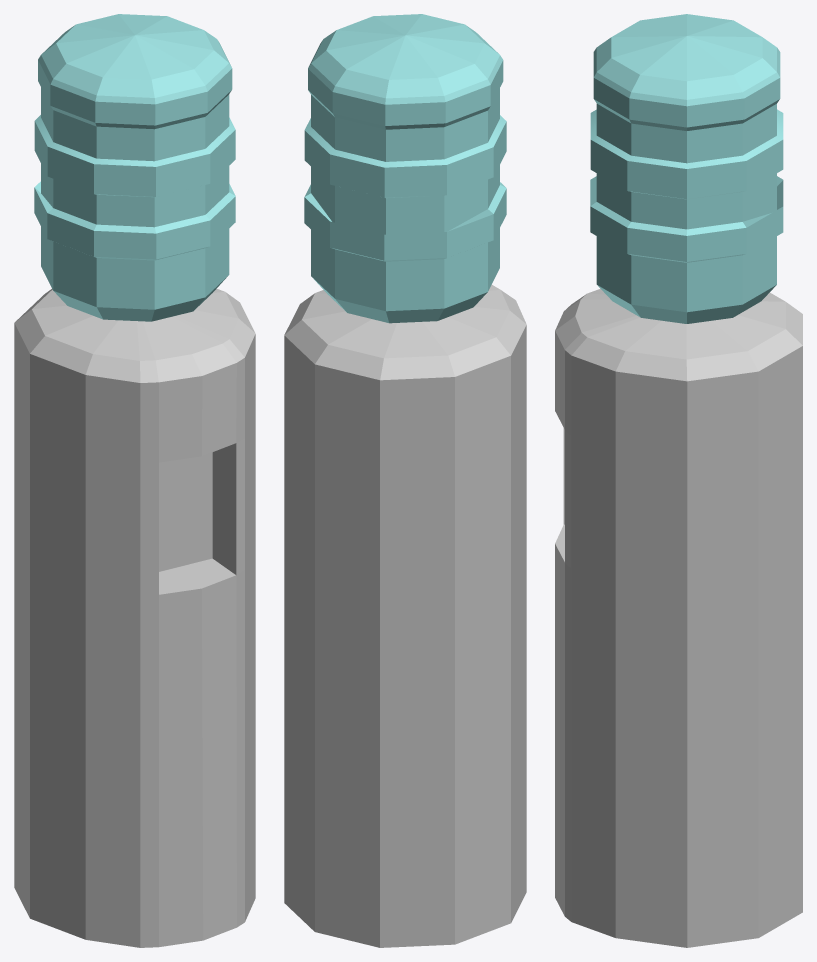
Rendered from watercooler.fbx.
3 renders of one model, left to right at view 1: azimuth 30°, elevation 25°; view 2: azimuth 150°, elevation 25°; view 3: azimuth 270°, elevation 25°, orthographic.
Parts seen in each view (by area): view 1: pCylinder3; view 2: pCylinder3; view 3: pCylinder3.
Part boxes in pixels (x1,y1,x2,y2): pCylinder3: (14, 14, 255, 947); pCylinder3: (284, 14, 526, 947); pCylinder3: (555, 14, 802, 947).
Size of the model in its own units: 45.41 by 177 by 46.25.
